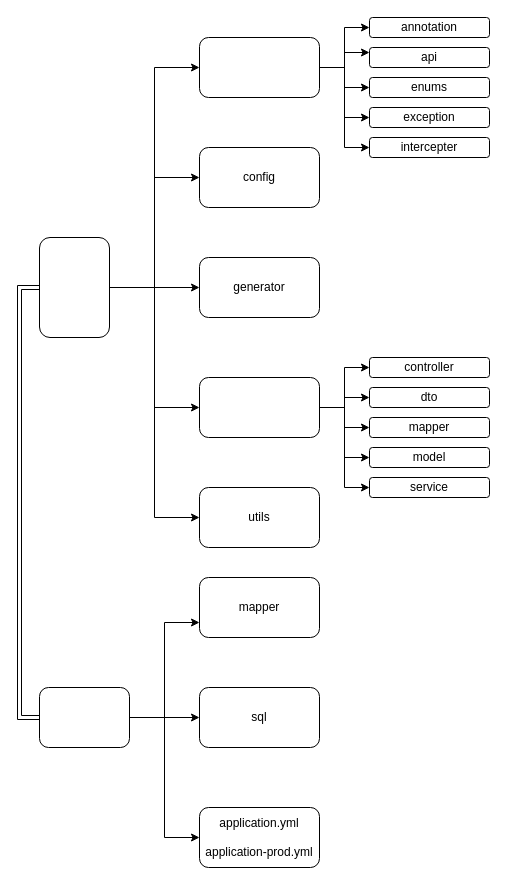
Image size: 507x885. Some labels were removed from this diagram. The shapes that lost their labels are listed below. From the top down, each one's box as (x1, y1, x2, y2) in pixels, then its label:
(198, 36, 320, 98): common
(38, 236, 110, 338): main java/ com/ lhd/ mylblog
(198, 376, 320, 438): modules/admin
(38, 686, 130, 748): main/resource
